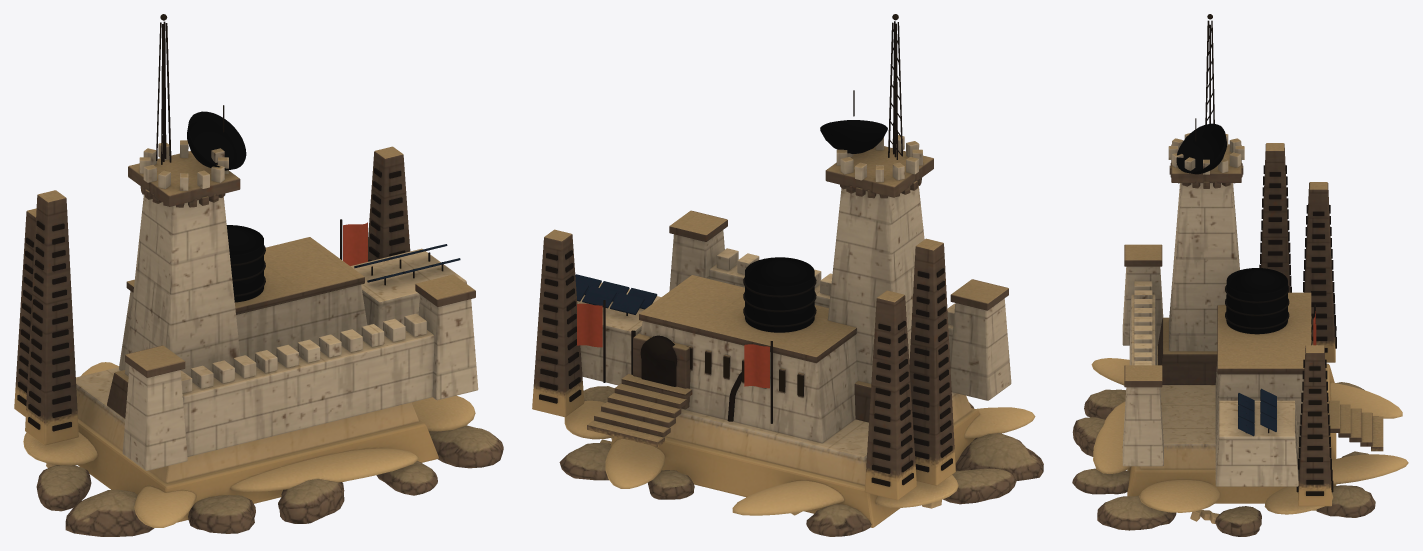
File: outpost-realistic.glb
The picture shows the model from 3 angles, left to right: view 1: azimuth 30°, elevation 25°; view 2: azimuth 150°, elevation 25°; view 3: azimuth 270°, elevation 25°; orthographic projection. The views are drawn at different scales.
Visible parts, largest first — view 1: Outpost_Body; view 2: Outpost_Body; view 3: Outpost_Body.
Boxes of the visible parts, left/top/right/bottom form: Outpost_Body: left=14, top=14, right=503, bottom=536; Outpost_Body: left=532, top=14, right=1043, bottom=536; Outpost_Body: left=1072, top=14, right=1408, bottom=536.
Bounding box in the file's own units: 11.88 × 12.16 × 9.31.
Materials: 1 (1 with a texture image).
